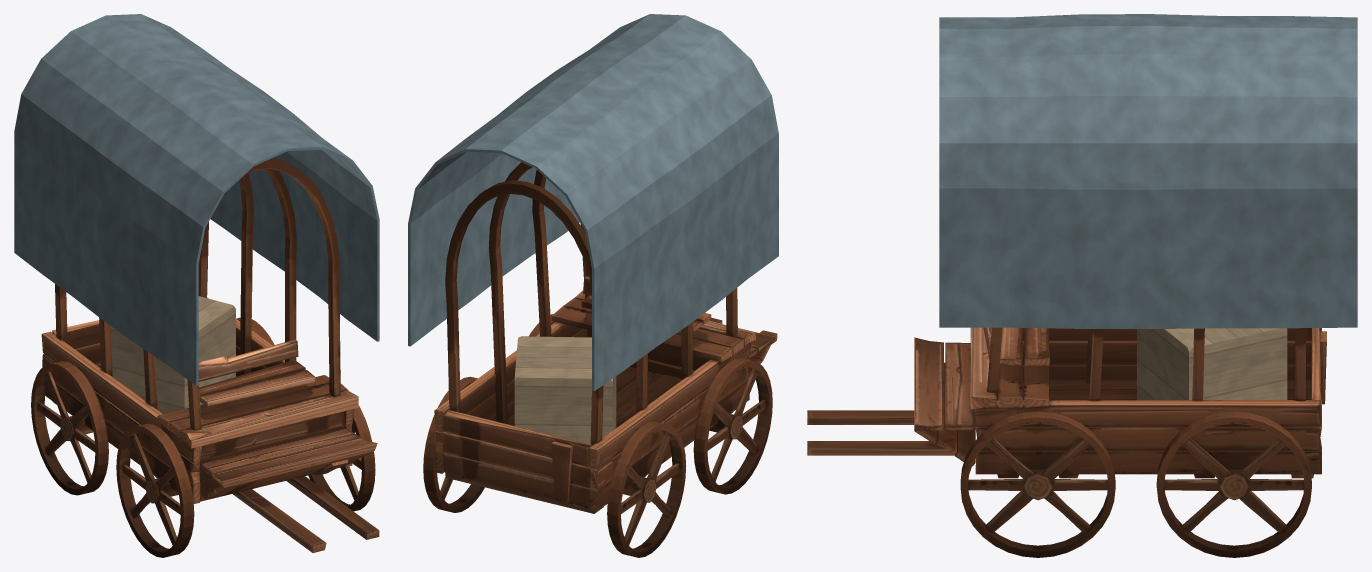
The model's file is fable_t03.glb.
3 renders of one model, left to right at view 1: azimuth 30°, elevation 25°; view 2: azimuth 150°, elevation 25°; view 3: azimuth 270°, elevation 25°, orthographic. The views are drawn at different scales.
Parts seen in each view (by area): view 1: canopy_shell, slot_anchor_frame, slot_front_wheels, crate_body; view 2: canopy_shell, slot_anchor_frame, crate_body, slot_front_wheels; view 3: canopy_shell, slot_anchor_frame, crate_body, slot_front_wheels.
Boxes of the visible parts, x1,y1,x2,y2 form: canopy_shell: [14, 14, 379, 385]; slot_anchor_frame: [31, 157, 379, 552]; slot_front_wheels: [116, 384, 375, 557]; crate_body: [110, 296, 235, 413]; canopy_shell: [408, 14, 778, 391]; slot_anchor_frame: [423, 162, 777, 557]; crate_body: [514, 336, 616, 444]; slot_front_wheels: [529, 314, 772, 494]; canopy_shell: [939, 14, 1357, 328]; slot_anchor_frame: [807, 327, 1326, 557]; crate_body: [1137, 328, 1287, 400]; slot_front_wheels: [960, 411, 1115, 557].
Bounding box in the file's own units: 0.9611 × 1.99 × 2.08.
3 materials, 3 textured.
